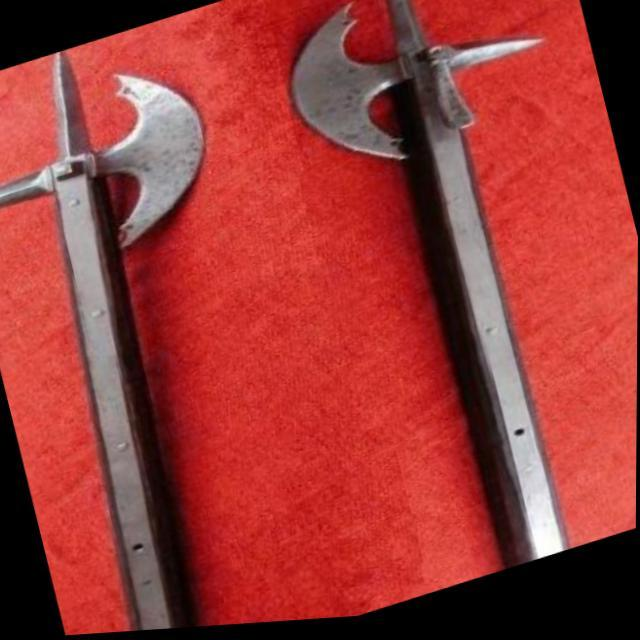weapon: (259, 0, 640, 611), (0, 9, 329, 640)
